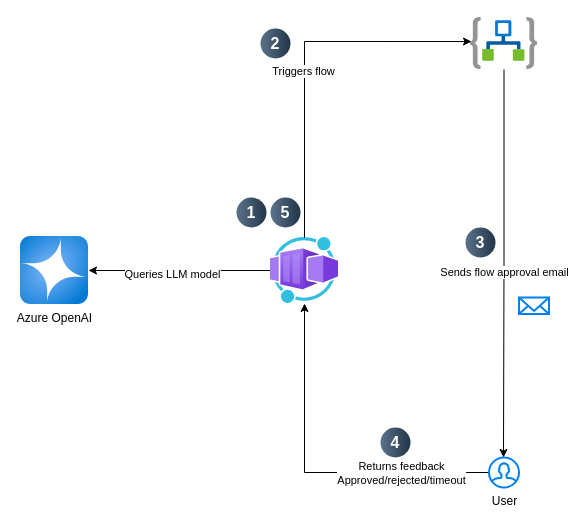
Image size: 586x525. Some labels were removed from this diagram. Here are the shapes that lost their labels. From the top down, the centre of each, then its label:
At (503,43): "Logic App".
At (304,270): "AI Agent runtime Python application".
